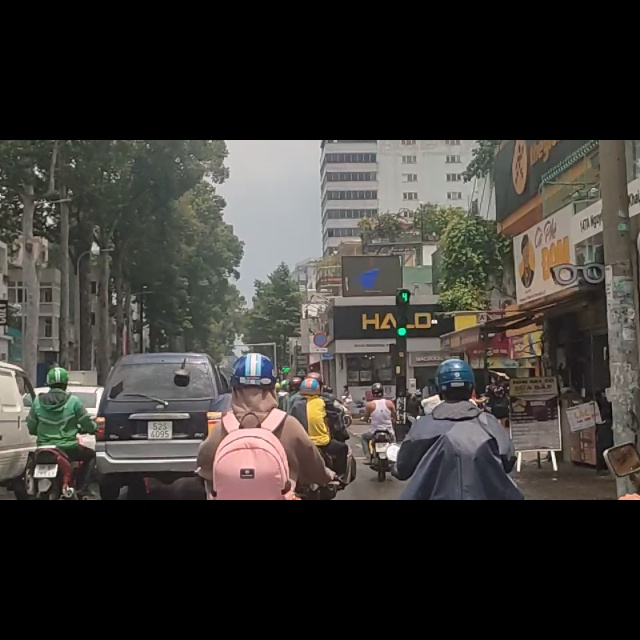bien_cam: (313, 341, 329, 369)
